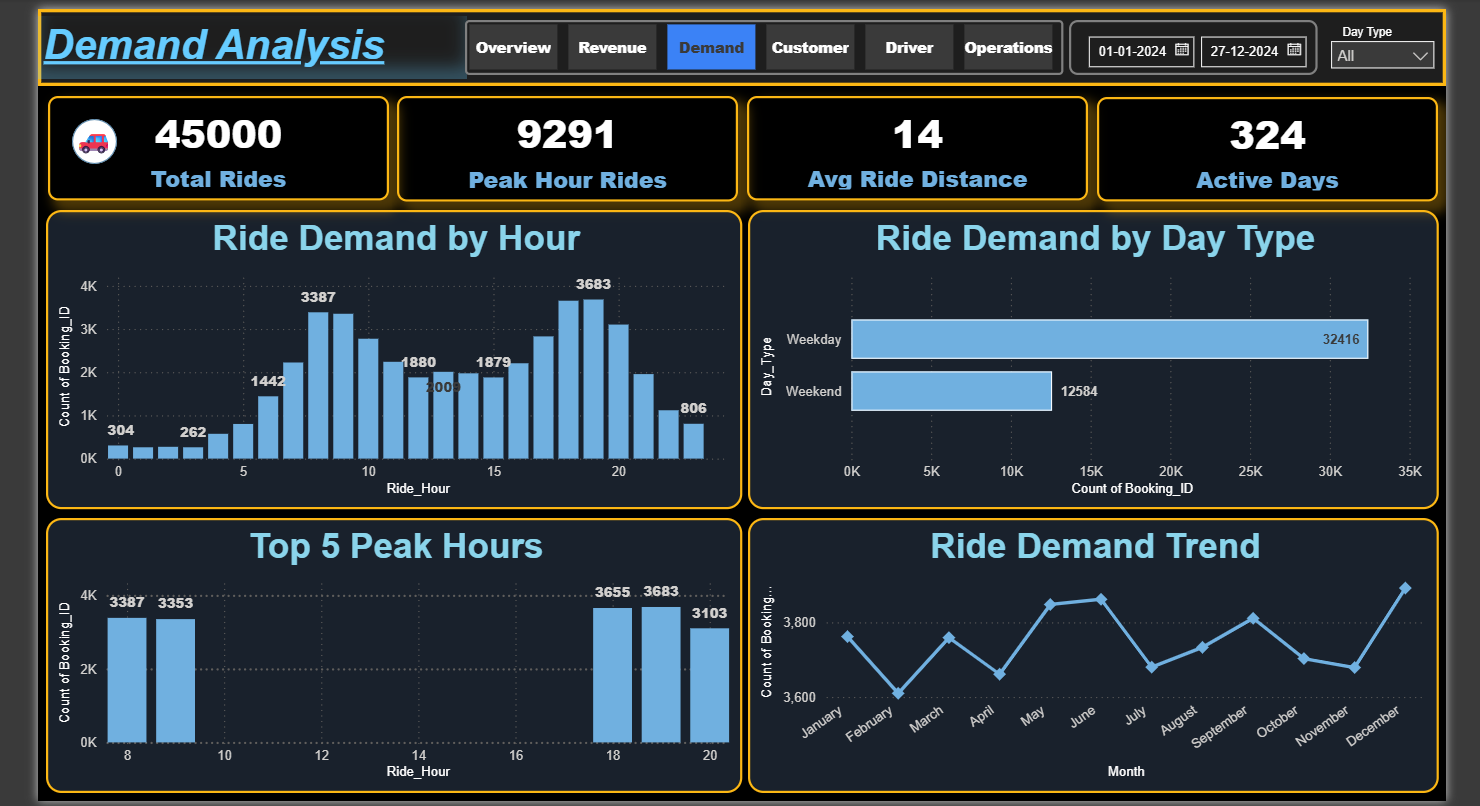

The dashboard page shown, as its layout file describes it:
{"tool":"powerbi","page":{"name":"Demand","canvas":[1280,720],"ordinal":2},"visuals":[{"type":"card","title":"Total Rides","fields":{"Values":["All Measures.Avg Ride Dist"]},"box":[644.5,79.1,310,95.5],"z":0},{"type":"card","title":"Avg Ride Value","fields":{"Values":["All Measures.Peak_Hour_Ride"]},"box":[326.4,79.1,310,96.4],"z":1000},{"type":"columnChart","title":"Top 5 Peak Hours","fields":{"Category":["Rides.Ride_Hour"],"Y":["CountNonNull(Rides.Booking_ID)"]},"box":[7,463,633,250],"z":2000},{"type":"clusteredColumnChart","title":"Ride Demand by Hour","fields":{"Category":["Rides.Ride_Hour"],"Y":["CountNonNull(Rides.Booking_ID)"]},"box":[7,183,633,272],"z":3000},{"type":"barChart","title":"Ride Demand by Day Type","fields":{"Category":["Rides.Day_Type"],"Y":["CountNonNull(Rides.Booking_ID)"]},"box":[645,183,628,272],"z":4000},{"type":"shape","box":[0,0,1280,70],"z":5000},{"type":"slicer","fields":{"Values":["Rides.Booking_Timestamp"]},"box":[937.3,10,226.4,50],"z":6000},{"type":"textbox","box":[0,6.4,390,57.3],"z":7000},{"type":"pageNavigator","box":[388.2,10,543.6,50],"z":8000},{"type":"slicer","fields":{"Values":["Rides.Day_Type"]},"box":[1165,19,114,66],"z":9000},{"type":"textbox","box":[1181,7,80,25],"z":10000},{"type":"card","title":"Total Rides","fields":{"Values":["All Measures.Active Days"]},"box":[962.7,80,310,95.5],"z":11000},{"type":"lineChart","title":"Ride Demand Trend","fields":{"Category":["Rides.Book_Date.Variation.Date Hierarchy.Month"],"Y":["CountNonNull(Rides.Booking_ID)"]},"box":[645,463,628,250],"z":12000},{"type":"card","title":"Total Rides","fields":{"Values":["All Measures.Total Rides"]},"box":[9,79,310,95.5],"z":13000},{"type":"group","id":"g1","title":"Group 2","box":[27.5,95.3,57.3,47.3],"z":14000},{"type":"shape","box":[31.1,99.8,40.9,40.9],"z":17000,"group":"g1"},{"type":"textbox","box":[27.5,95.3,57.3,47.3],"z":18000,"group":"g1"}]}

Visuals, with their boxes on the page's 1280x720 design canvas (x1, y1, x2, y2). These are canvas units, not pixel positions in the 1480x806 screenshot, which may show the page scaled, cropped or inside an application window:
"Total Rides" card: Rect(644, 79, 954, 175)
"Avg Ride Value" card: Rect(326, 79, 636, 176)
"Top 5 Peak Hours" columnChart: Rect(7, 463, 640, 713)
"Ride Demand by Hour" clusteredColumnChart: Rect(7, 183, 640, 455)
"Ride Demand by Day Type" barChart: Rect(645, 183, 1273, 455)
shape: Rect(0, 0, 1280, 70)
slicer - Rides.Booking_Timestamp: Rect(937, 10, 1164, 60)
textbox: Rect(0, 6, 390, 64)
pageNavigator: Rect(388, 10, 932, 60)
slicer - Rides.Day_Type: Rect(1165, 19, 1279, 85)
textbox: Rect(1181, 7, 1261, 32)
"Total Rides" card: Rect(963, 80, 1273, 176)
"Ride Demand Trend" lineChart: Rect(645, 463, 1273, 713)
"Total Rides" card: Rect(9, 79, 319, 174)
"Group 2" group: Rect(28, 95, 85, 143)
shape: Rect(31, 100, 72, 141)
textbox: Rect(28, 95, 85, 143)
